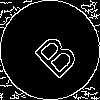B: (25, 25, 81, 81)
